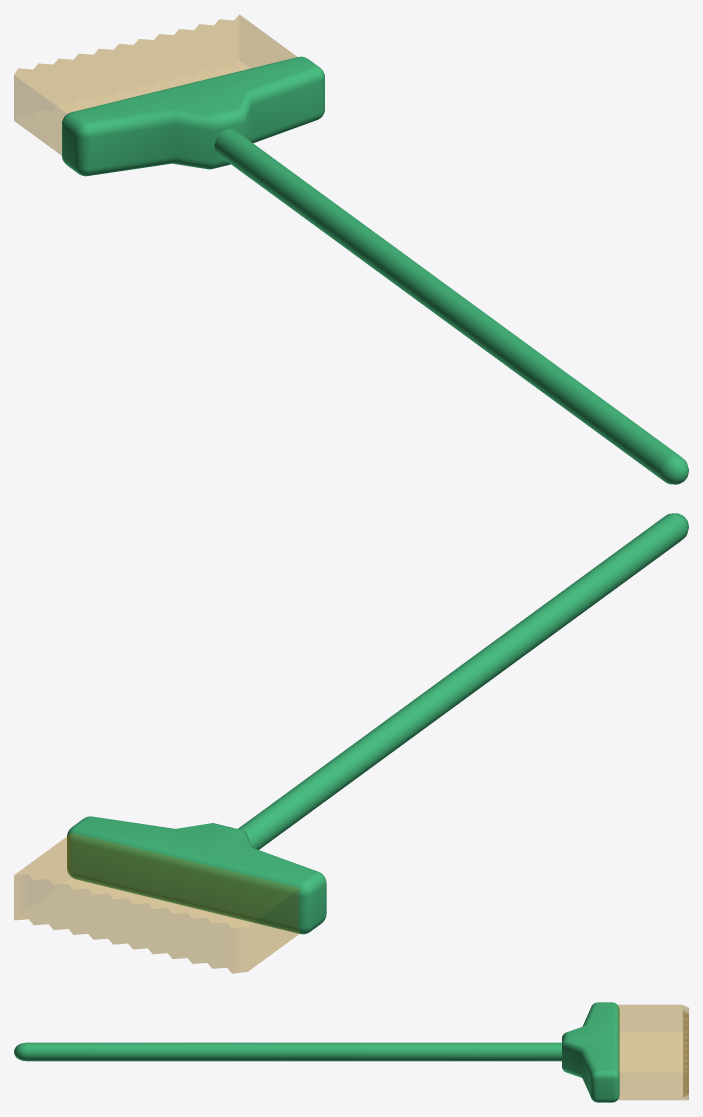
File: Mop_Source.gltf
3 views of the same model, one above another, from view 1: azimuth 30°, elevation 25°; view 2: azimuth 150°, elevation 25°; view 3: azimuth 270°, elevation 25° (orthographic). The views are drawn at different scales.
Visible parts, largest first — view 1: Broom_515; view 2: Broom_515; view 3: Broom_515.
Boxes of the visible parts, x1,y1,x2,y2 form: Broom_515: (14, 14, 688, 484); Broom_515: (14, 513, 688, 973); Broom_515: (14, 1002, 688, 1102).
Bounding box in the file's own units: 1.42 × 0.2908 × 5.54.
